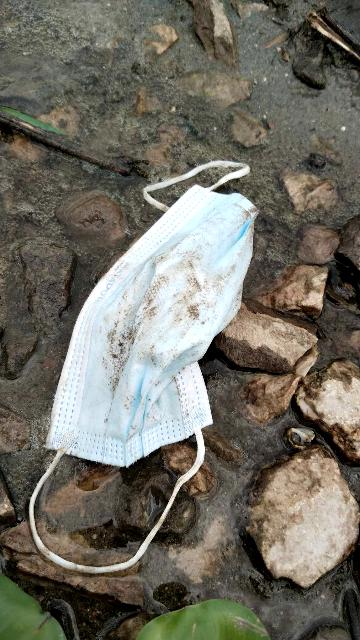mask: (9, 144, 266, 583)
